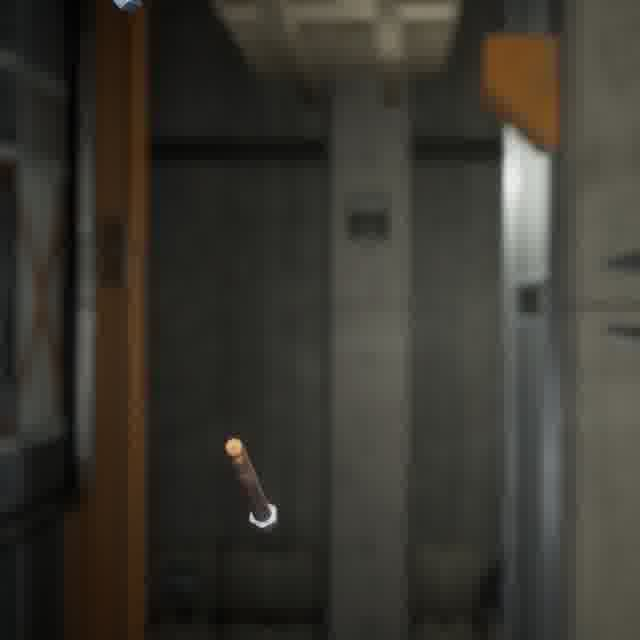bolt: (220, 433, 282, 536)
